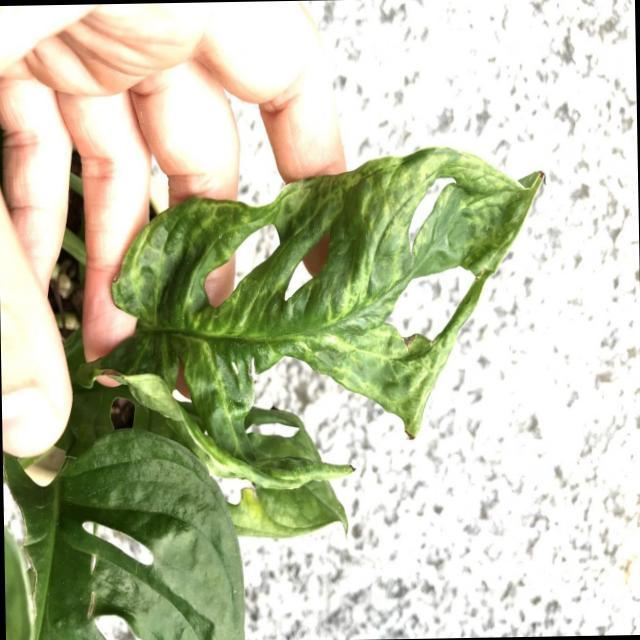Mosaic Virus: (74, 138, 538, 464)
